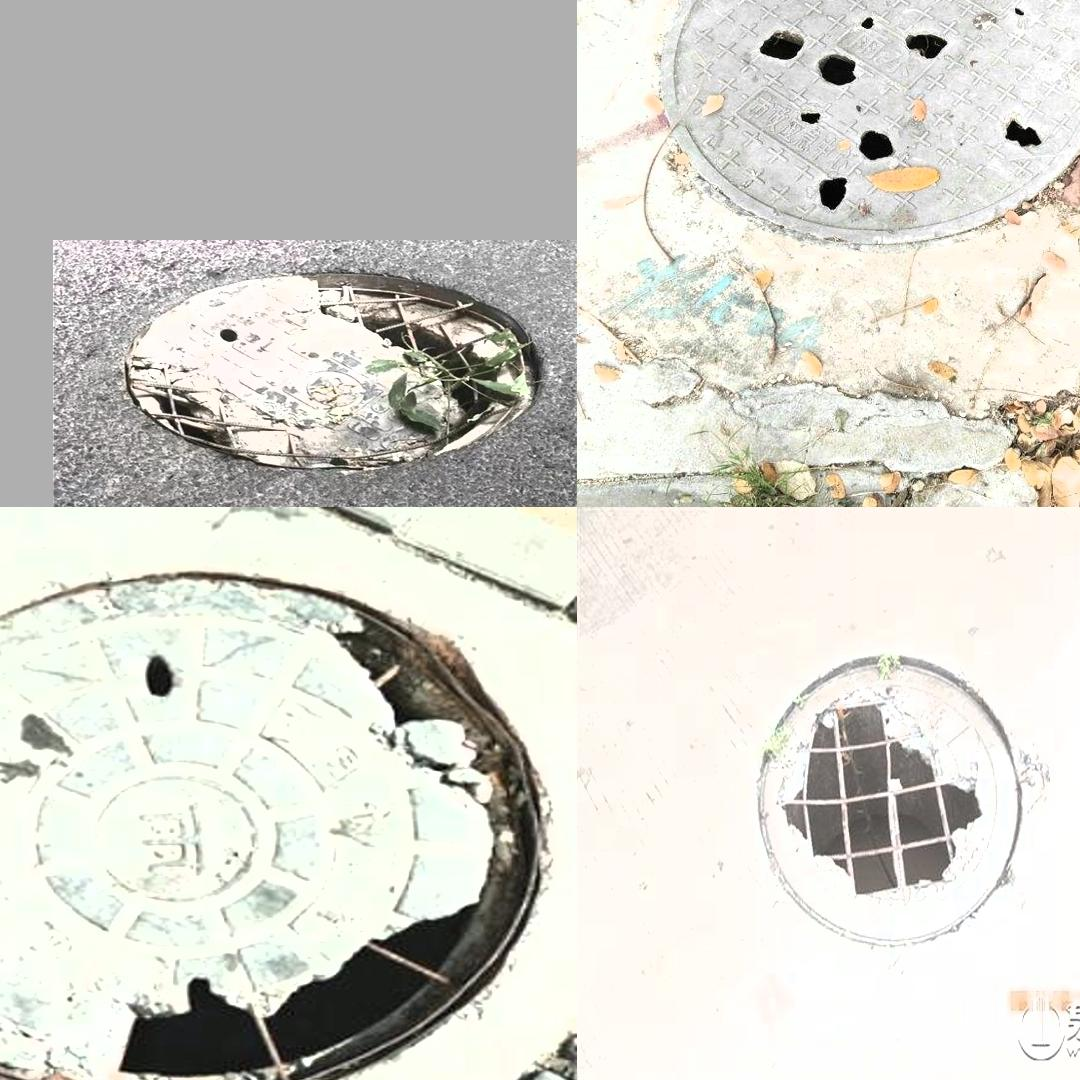broke: (0, 583, 565, 1080), (727, 632, 1061, 975), (659, 0, 1080, 244), (119, 267, 549, 473)
